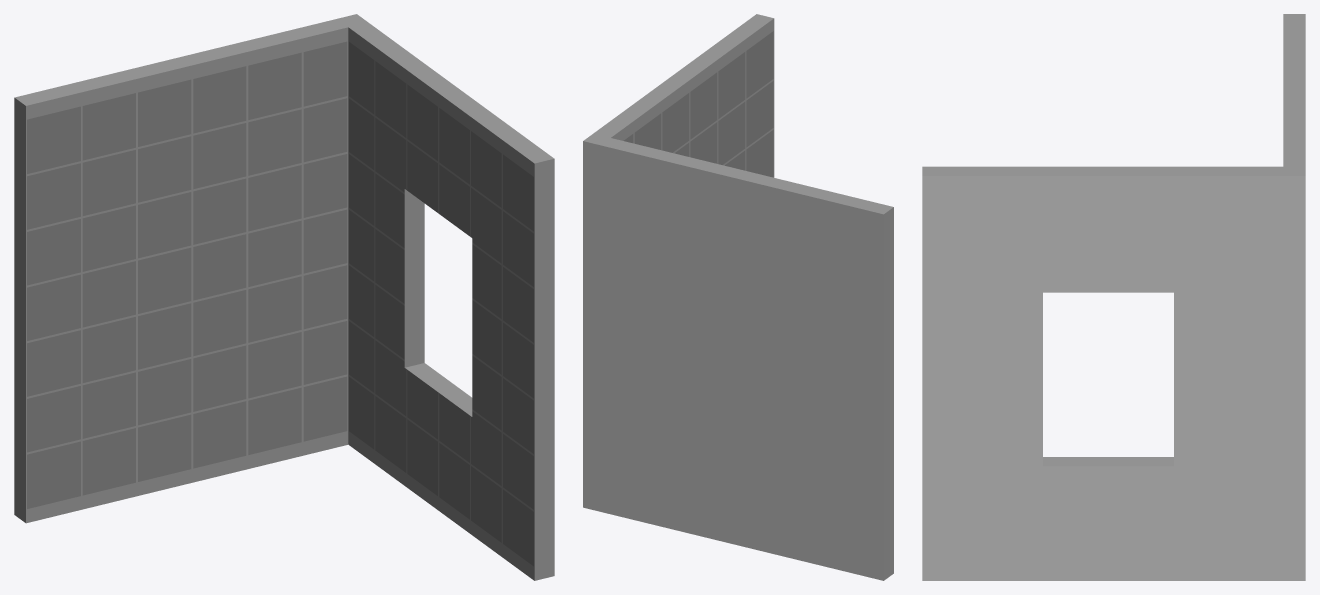
Rendered from Wall1_C7_08.fbx.
The picture shows the model from 3 angles, left to right: view 1: azimuth 30°, elevation 25°; view 2: azimuth 150°, elevation 25°; view 3: azimuth 270°, elevation 25°; orthographic projection. The views are drawn at different scales.
Parts seen in each view (by area): view 1: Wall1_C7_08; view 2: Wall1_C7_08; view 3: Wall1_C7_08.
Part boxes in pixels (x1,y1,x2,y2): Wall1_C7_08: (14, 14, 554, 580); Wall1_C7_08: (583, 14, 893, 580); Wall1_C7_08: (922, 14, 1305, 580).
Size of the model in its own units: 258 by 300 by 258.
